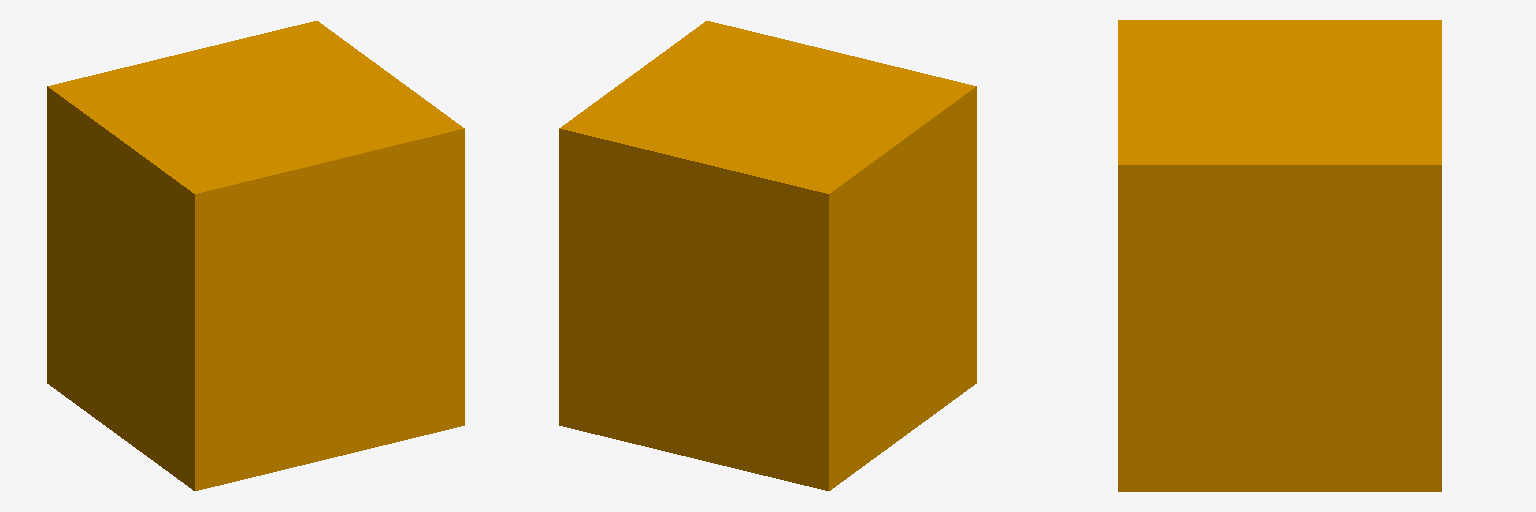
The robot description file, URDF, robot "object":
<robot name="object">
  <link name="object">
    <visual>
      <origin xyz="0 0 0" />
      <geometry>
        <box size="0.07600000000000001 0.07200000000000001 0.08" />
      </geometry>
    </visual>

    <collision>
      <origin xyz="0 0 0" />
      <geometry>
        <box size="0.07600000000000001 0.07200000000000001 0.08" />
      </geometry>
    </collision>

    <inertial>
      <mass value="0.05" />
      <inertia ixx="0.0001" ixy="0.0" ixz="0.0" iyy="0.0001" iyz="0.0" izz="0.0001" />
    </inertial>
  </link>
</robot>

--- What the picture shows (computed from the rendered views, not written in the file) ---
Views: 3 orthographic renders of the robot side by side, from view 1: azimuth 30°, elevation 25°; view 2: azimuth 150°, elevation 25°; view 3: azimuth 270°, elevation 25°.
Robot: object — 1 links, 0 joints (none); root link object; default pose: all joints at 0.
Visible links, largest first — view 1: object; view 2: object; view 3: object.
Boxes of the visible links, left/top/right/bottom form: object: left=47, top=21, right=464, bottom=490; object: left=559, top=21, right=976, bottom=490; object: left=1118, top=20, right=1441, bottom=491.
Bounding box of the posed robot: 0.076 × 0.072 × 0.08 m (x, y, z).
Geometry: primitives only (box / cylinder / sphere), no mesh files.